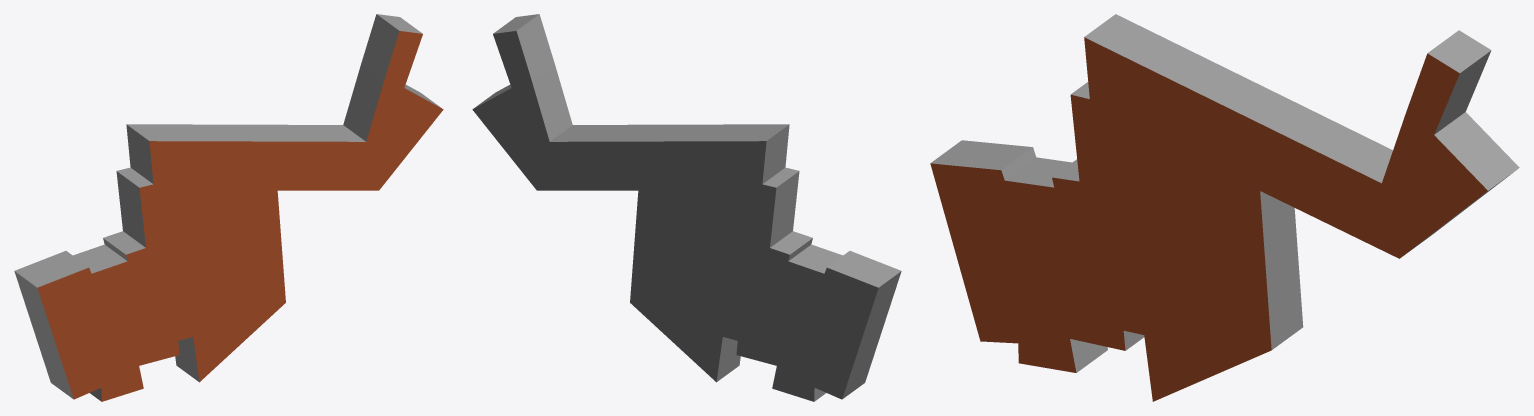
Rendered from construction_5211_assumed_A_Casa_h6m.obj.
3 renders of one model, left to right at view 1: azimuth 30°, elevation 25°; view 2: azimuth 150°, elevation 25°; view 3: azimuth 330°, elevation 25°, orthographic. The views are drawn at different scales.
Parts seen in each view (by area): view 1: construction_5211_assumed_A_Casa; view 2: construction_5211_assumed_A_Casa; view 3: construction_5211_assumed_A_Casa.
Boxes of the visible parts, x1,y1,x2,y2 form: construction_5211_assumed_A_Casa: (14, 14, 443, 401); construction_5211_assumed_A_Casa: (472, 14, 901, 401); construction_5211_assumed_A_Casa: (930, 14, 1519, 401).
Size of the model in its own units: 61.07 by 43.49 by 6.
